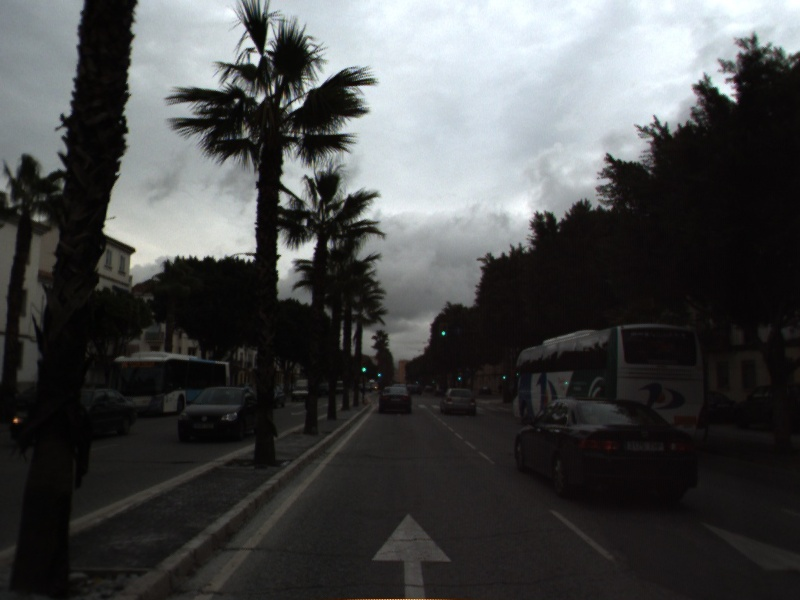STRAIGHT: (367, 507, 457, 600)
